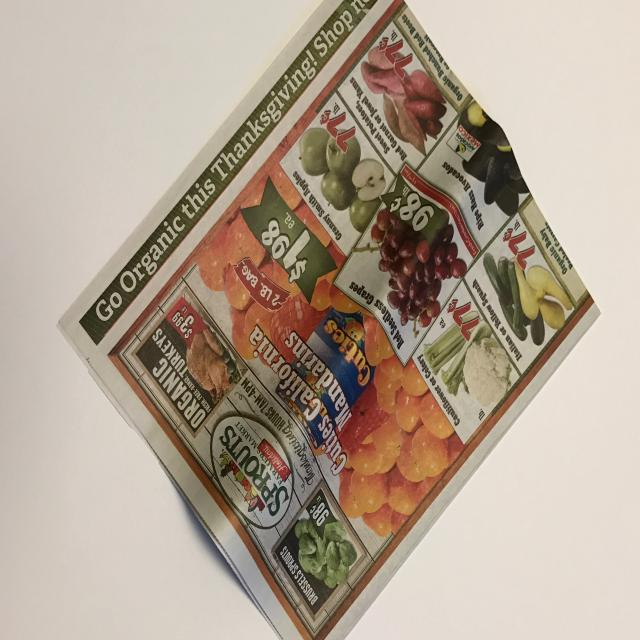paper: (55, 0, 602, 639)
